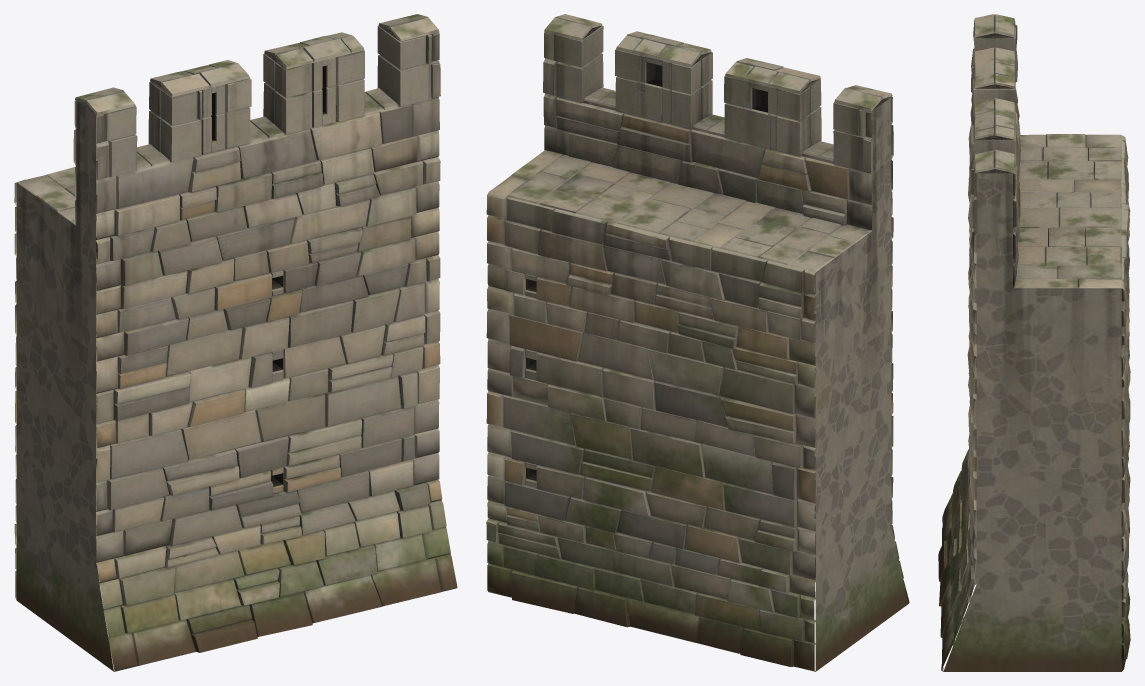
Rendered from wall_stone_straight.glb.
3 views of the same model, side by side, from view 1: azimuth 30°, elevation 25°; view 2: azimuth 150°, elevation 25°; view 3: azimuth 270°, elevation 25° (orthographic). The views are drawn at different scales.
Visible parts, largest first — view 1: wall_stone_straight_LOD0; view 2: wall_stone_straight_LOD0; view 3: wall_stone_straight_LOD0.
Boxes of the visible parts, x1,y1,x2,y2 form: wall_stone_straight_LOD0: [14, 14, 457, 671]; wall_stone_straight_LOD0: [486, 14, 909, 671]; wall_stone_straight_LOD0: [938, 14, 1130, 671].
Size of what is drawn, in the model's own units: 6 by 9.23 by 3.18.
1 material, 1 textured.
